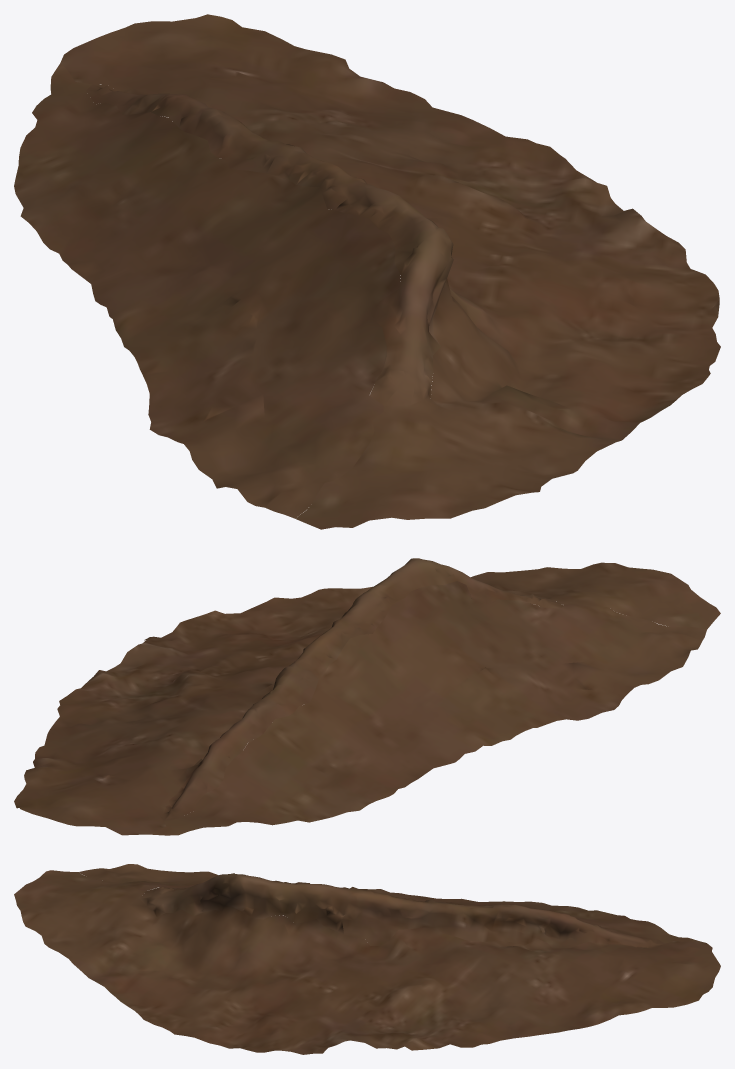
Rendered from root-cluster-02-c.glb.
3 renders of one model, top to bottom at view 1: azimuth 30°, elevation 25°; view 2: azimuth 150°, elevation 25°; view 3: azimuth 270°, elevation 25°, orthographic. The views are drawn at different scales.
Visible parts, largest first — view 1: root_cluster_02_c; view 2: root_cluster_02_c; view 3: root_cluster_02_c.
Boxes of the visible parts, x1=… form: root_cluster_02_c: x1=14, y1=14, x2=720, y2=529; root_cluster_02_c: x1=14, y1=558, x2=720, y2=835; root_cluster_02_c: x1=14, y1=864, x2=720, y2=1054.
Bounding box in the file's own units: 0.236 × 0.0564 × 0.3892.
1 material, 1 textured.
